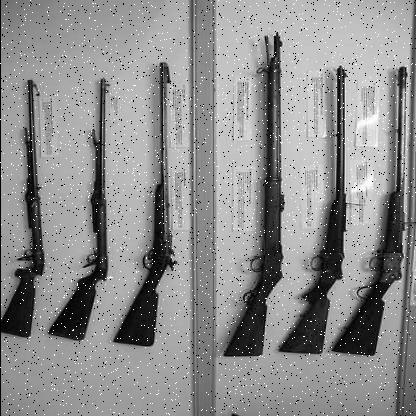rifle: (268, 62, 364, 364), (97, 36, 183, 353), (215, 28, 290, 364), (55, 62, 128, 347), (349, 68, 410, 354), (1, 76, 51, 345)
